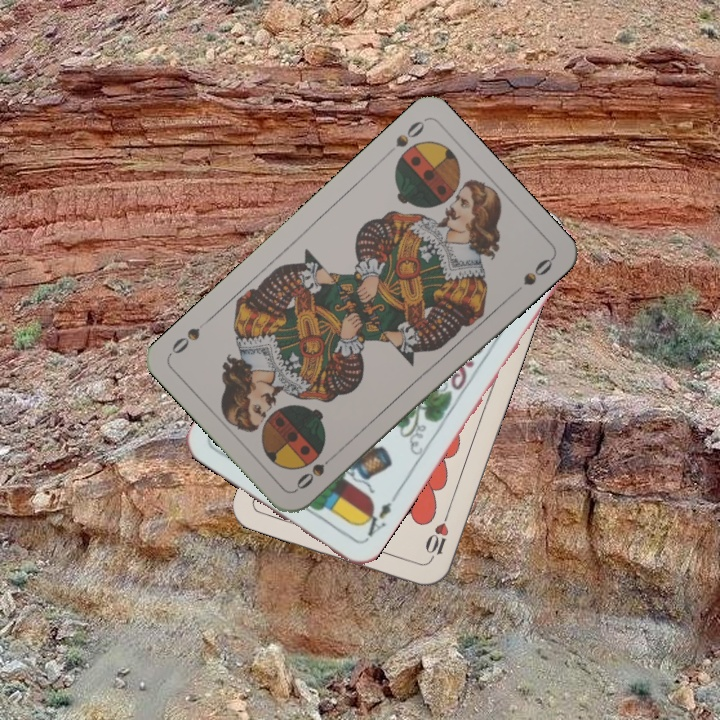EA: (357, 491, 400, 544)
H10: (421, 508, 452, 565)
SO: (292, 449, 340, 494), (391, 117, 428, 150)
